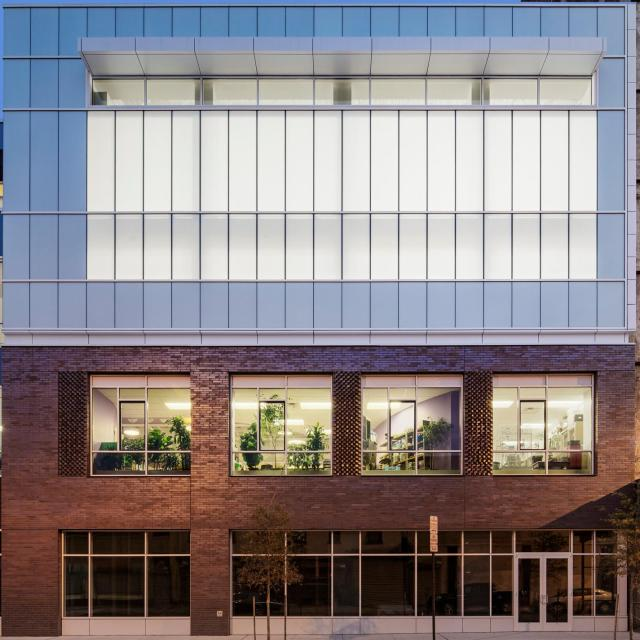door: (514, 553, 575, 634)
plant: (240, 506, 303, 591)
wall: (2, 0, 636, 637)
windows: (231, 529, 617, 633), (91, 76, 594, 105), (61, 532, 192, 636), (90, 375, 192, 479), (362, 377, 463, 477), (492, 377, 594, 475), (232, 379, 333, 475)
